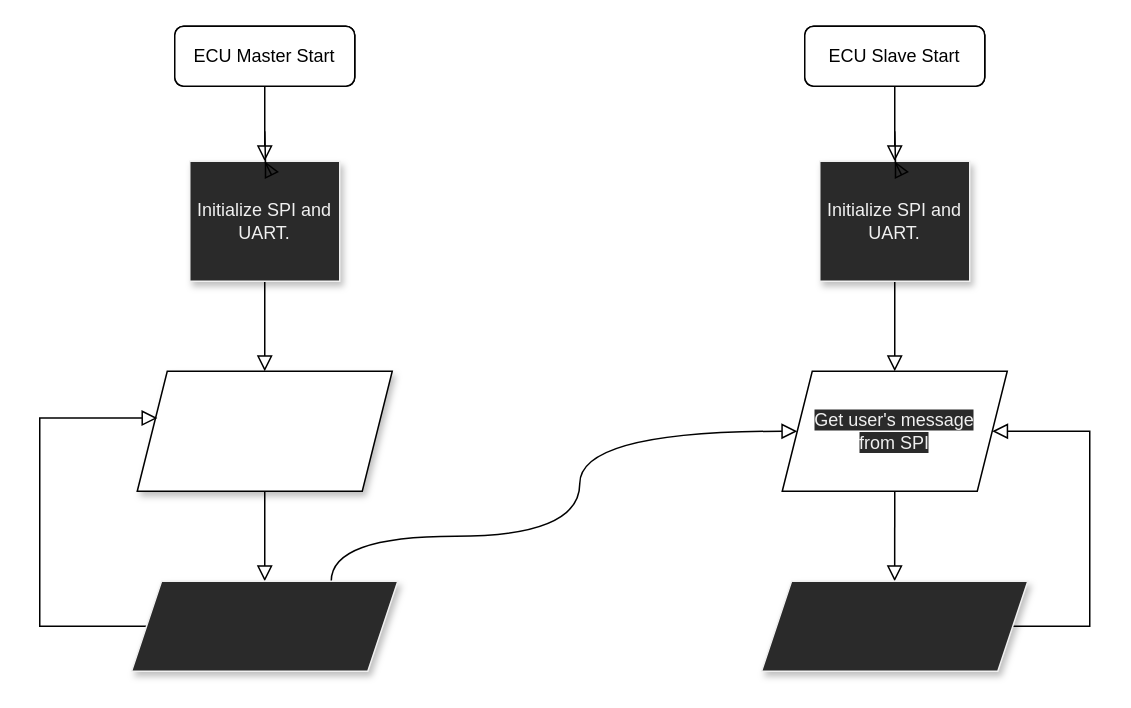
This 1131x708 diagram has some shape labels left out. Here are the shapes that lost their labels. From the top down, the centre of each, then its label:
point (265, 433): Waiting for user's message using UART
point (265, 628): Send user's message using SPI
point (895, 628): Send user's message using UART
